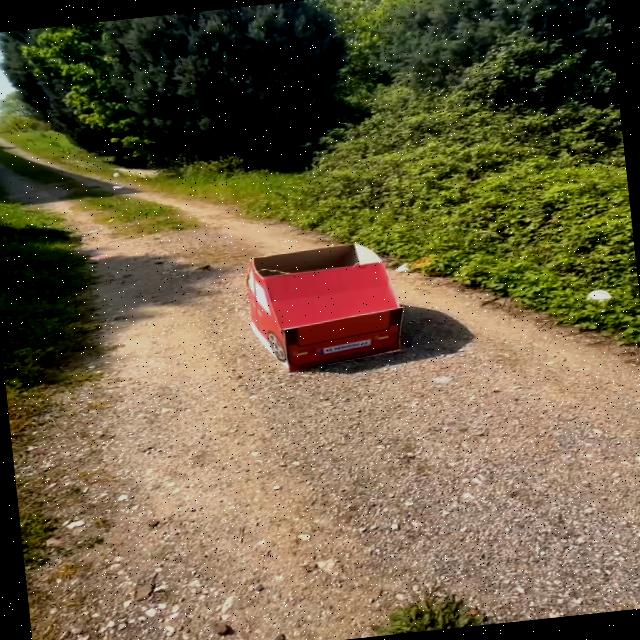red_car: (212, 221, 423, 408)
